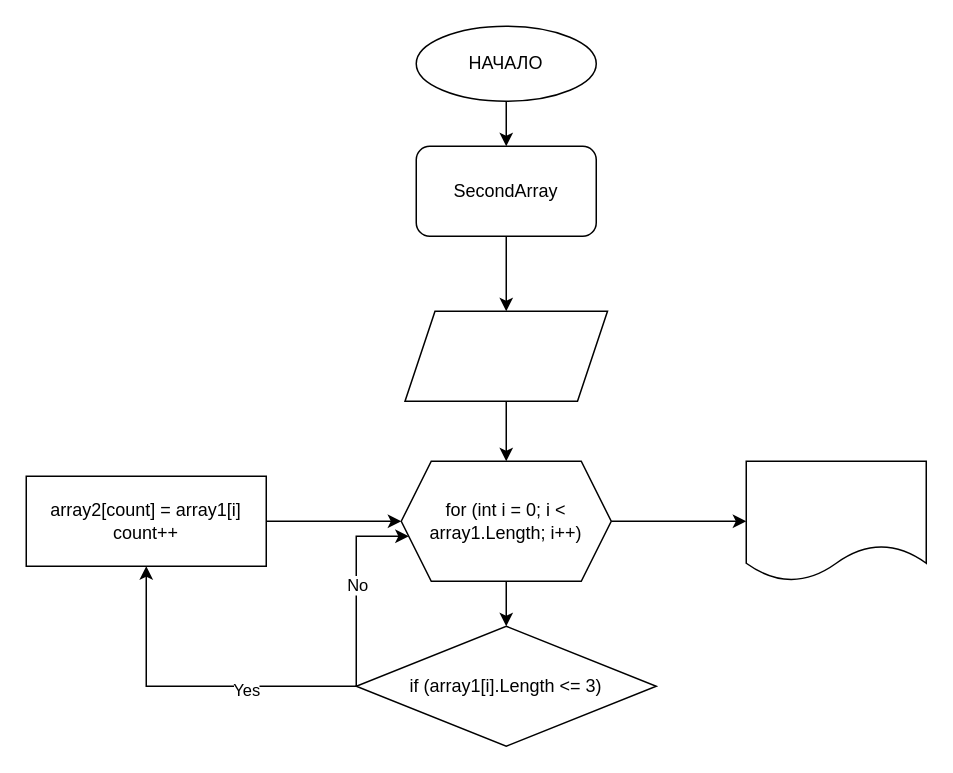
The diagram is 953 pixels wide and 773 high, and some of its shapes have lost their labels. The shapes that lost their labels are listed below. From the top down, each one's centre as x and y in pixels, then its label:
At point 506,355: "string[] array1 string[] array2 int count = 0".
At point 835,520: "Print array1 Print array2".
